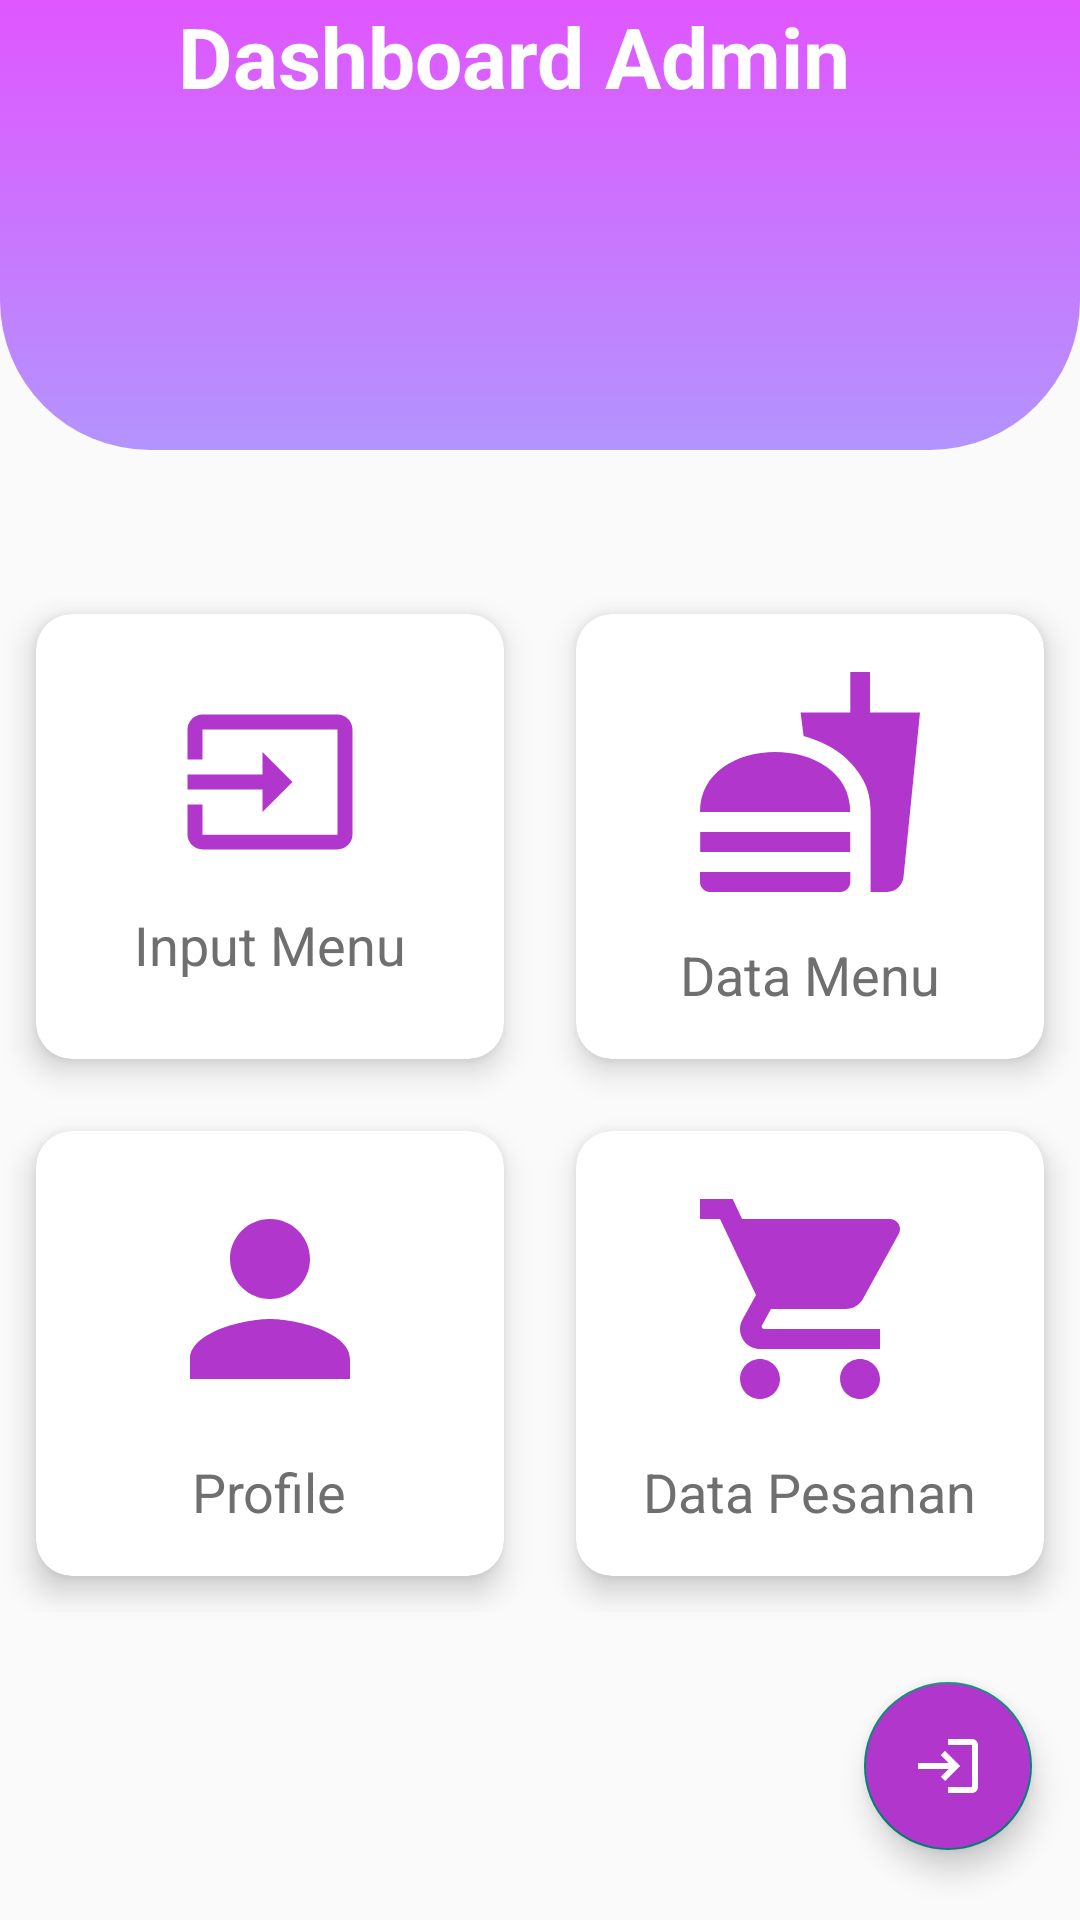

Icon click points for this 1080w x 1920h phone screenshot, format (x,y):
fastfood: (810,782)
person: (270,1299)
shopping cart: (800,1299)
